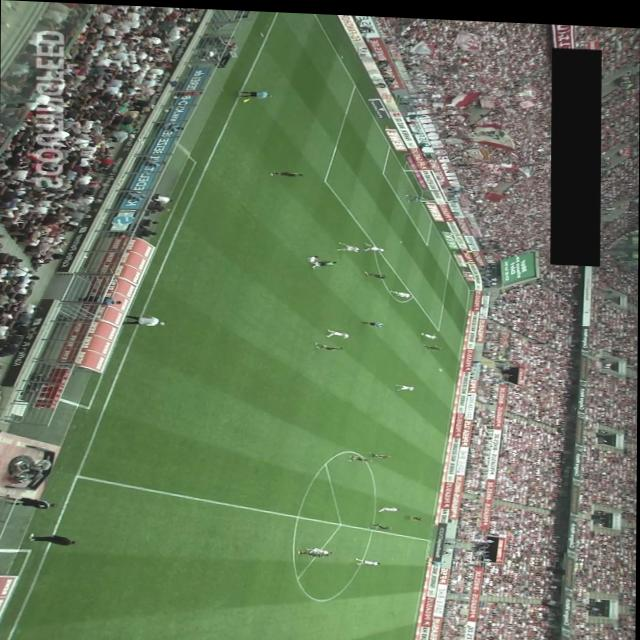goalkeeper: (404, 190, 428, 199)
player: (325, 325, 351, 336), (270, 168, 304, 176), (337, 239, 361, 250), (297, 547, 328, 555), (363, 239, 386, 249), (315, 340, 343, 348), (304, 545, 334, 552), (355, 555, 381, 563), (305, 253, 321, 266), (389, 287, 413, 295), (348, 452, 372, 459), (314, 257, 337, 264), (364, 269, 387, 276), (395, 380, 415, 388), (370, 520, 392, 527), (378, 503, 400, 510), (369, 449, 391, 455), (420, 329, 438, 335), (424, 341, 444, 346), (405, 512, 423, 517)
referee: (235, 88, 272, 100), (423, 554, 444, 562), (362, 318, 385, 324)
